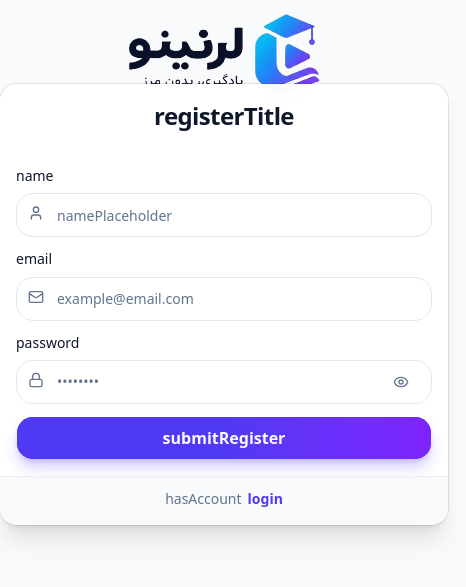
RegisterForm › should show invalid email error for bad format
In the field with placeholder "example@email.com": x=224, y=298 x1=16 y1=276 x2=432 y2=320, type "bad-email"
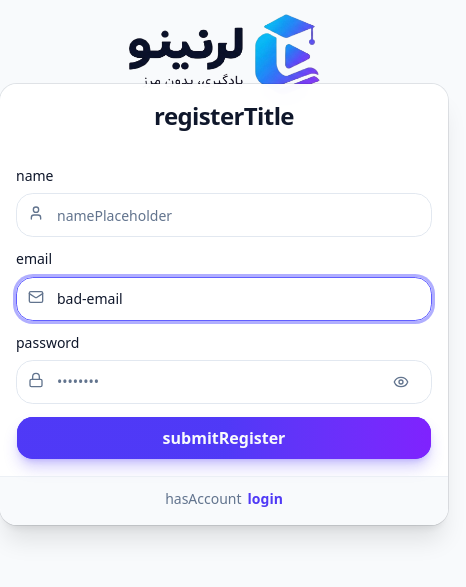
In the password field with placeholder "••••••••": x=224, y=382 x1=16 y1=360 x2=432 y2=404, type "password123"
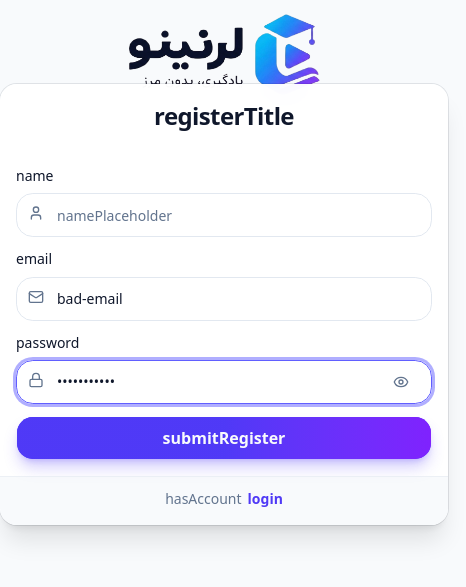
Click the button "submitRegister": x=224, y=438 x1=16 y1=416 x2=432 y2=460
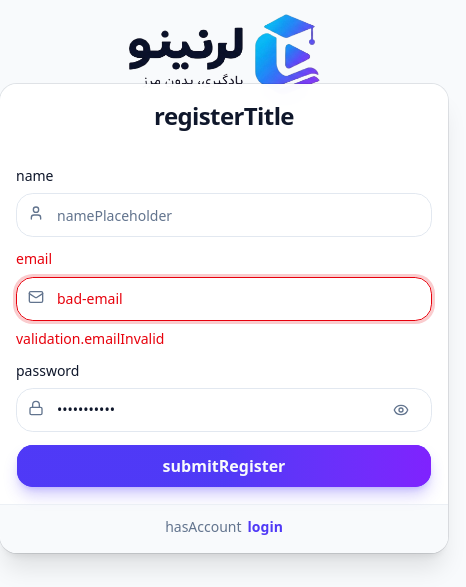
Expected: the text "validation.emailInvalid" is shown, x1=16 y1=328 x2=164 y2=348
